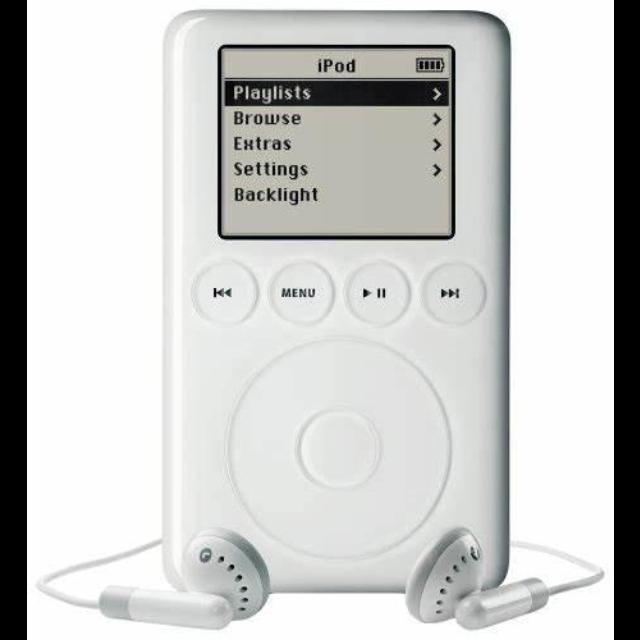Music-Player: (145, 0, 530, 598)
